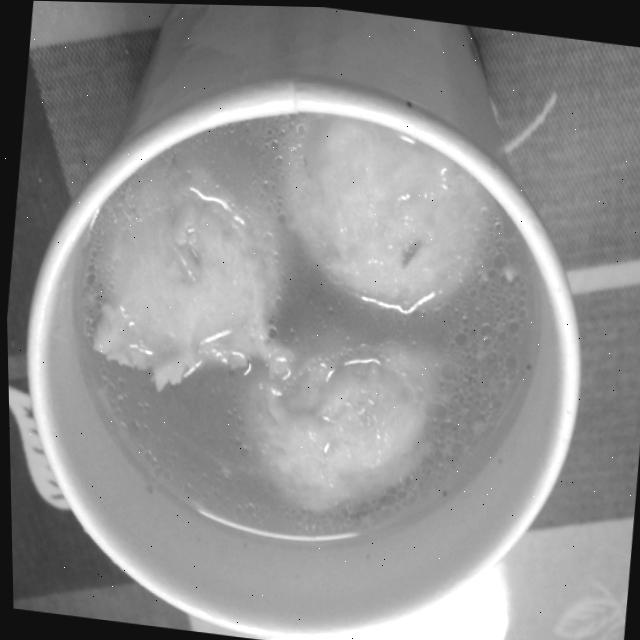熟制海鲜: (1, 14, 605, 640)
